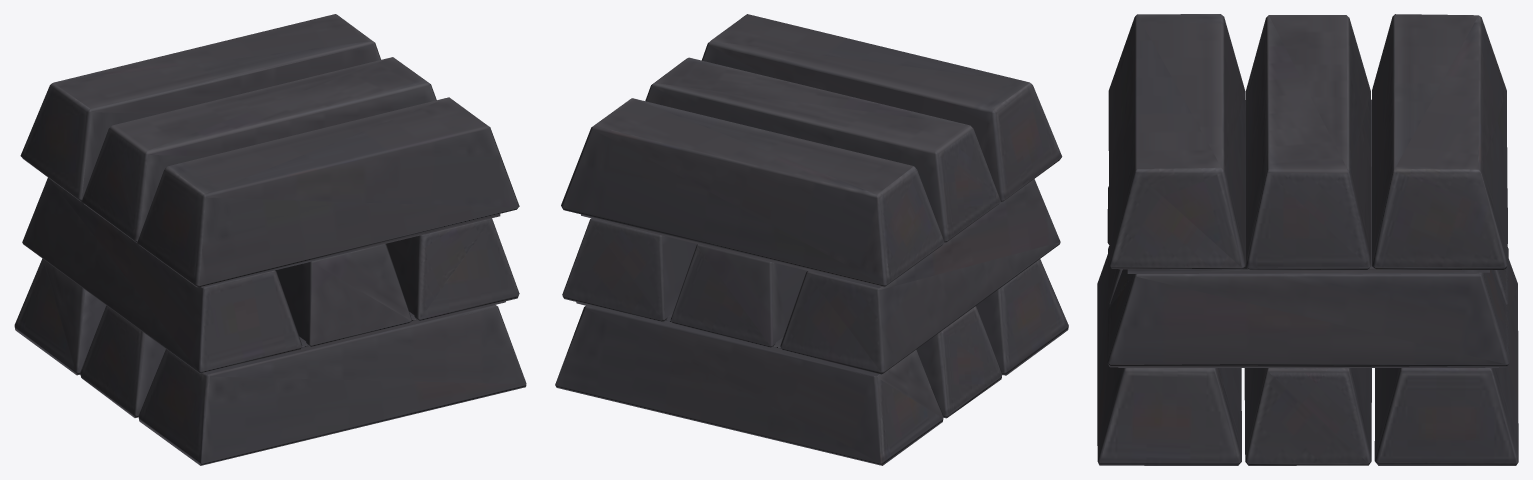
File: upgrade_b.glb
3 renders of one model, left to right at view 1: azimuth 30°, elevation 25°; view 2: azimuth 150°, elevation 25°; view 3: azimuth 270°, elevation 25°, orthographic. The views are drawn at different scales.
Visible parts, largest first — view 1: upgrade_b; view 2: upgrade_b; view 3: upgrade_b.
Part boxes in pixels (bbox=[...]): upgrade_b: bbox=[14, 14, 526, 465]; upgrade_b: bbox=[555, 14, 1068, 465]; upgrade_b: bbox=[1097, 14, 1518, 465].
Size of the model in its own units: 0.8 by 0.6 by 0.8.
1 material, 1 textured.
